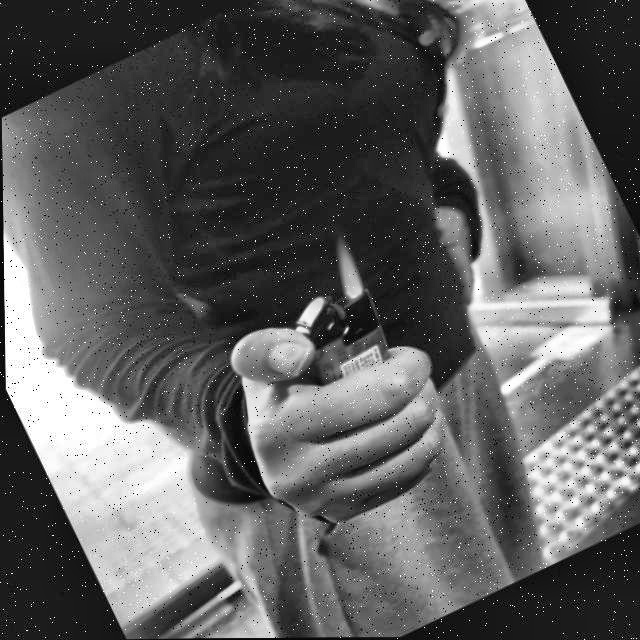Fire: (324, 247, 366, 299)
